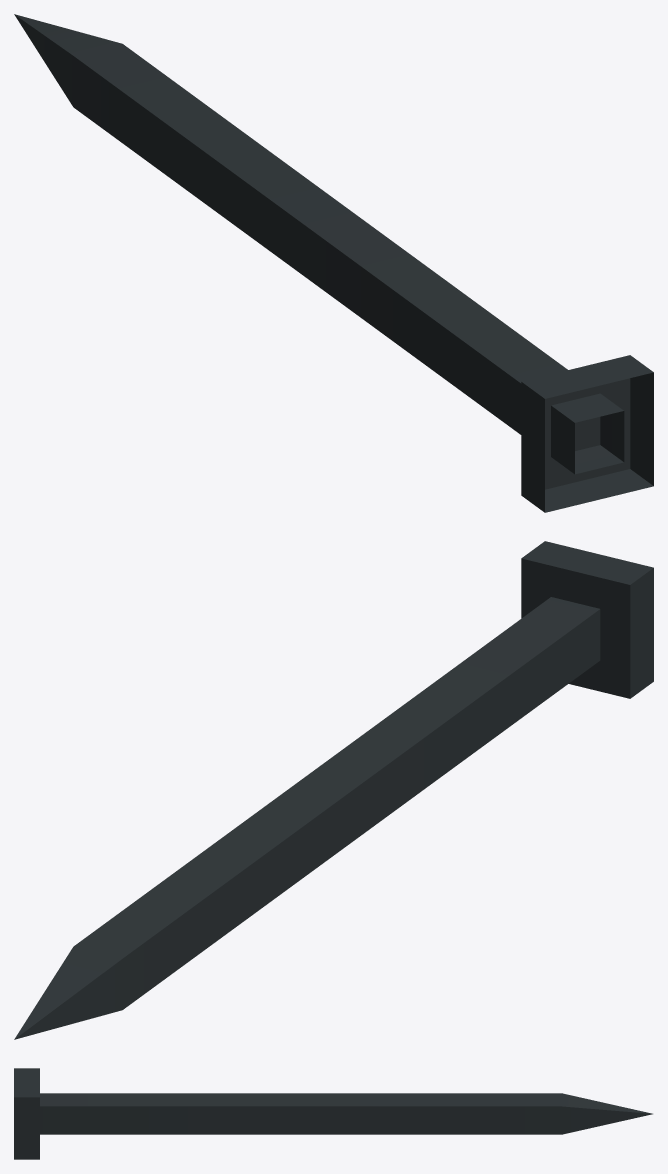
Rendered from Metal Fence Pole 01.FBX.
The picture shows the model from 3 angles, top to bottom: view 1: azimuth 30°, elevation 25°; view 2: azimuth 150°, elevation 25°; view 3: azimuth 270°, elevation 25°; orthographic projection. The views are drawn at different scales.
Parts seen in each view (by area): view 1: Metal Fence Pole 01; view 2: Metal Fence Pole 01; view 3: Metal Fence Pole 01.
Boxes of the visible parts, left/top/right/bottom form: Metal Fence Pole 01: left=14, top=14, right=653, bottom=512; Metal Fence Pole 01: left=14, top=541, right=653, bottom=1039; Metal Fence Pole 01: left=14, top=1068, right=652, bottom=1159.
Size of the model in its own units: 33.98 by 33.96 by 316.
